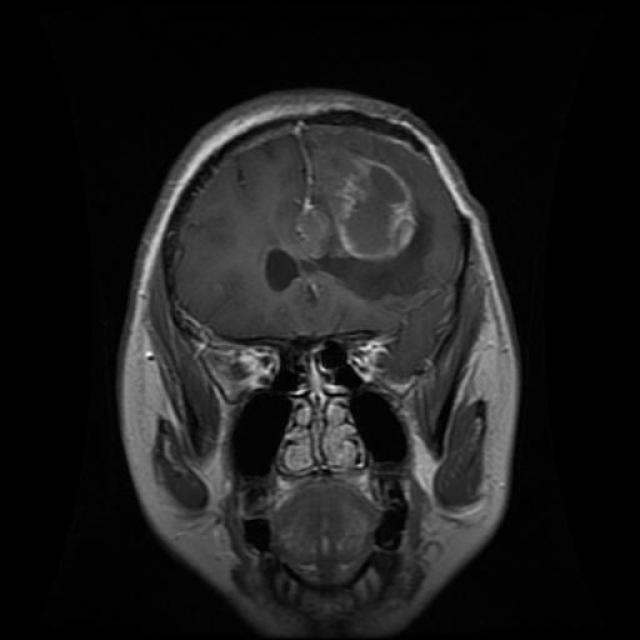glioma: (304, 145, 428, 270)
